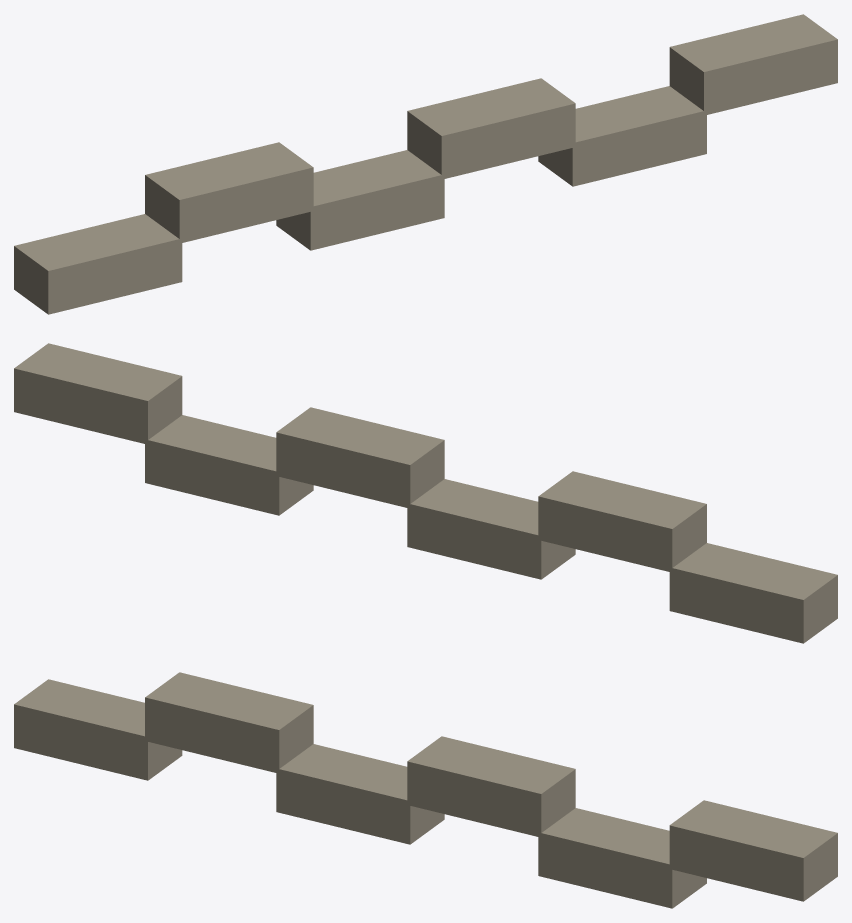
File: sandbag_wall.glb
3 renders of one model, top to bottom at view 1: azimuth 30°, elevation 25°; view 2: azimuth 150°, elevation 25°; view 3: azimuth 330°, elevation 25°, orthographic.
Visible parts, largest first — view 1: bag0_0, bag3_3, bag1_1, bag5_5, bag4_4, bag2_2; view 2: bag0_0, bag1_1, bag3_3, bag5_5, bag4_4, bag2_2; view 3: bag5_5, bag1_1, bag3_3, bag0_0, bag4_4, bag2_2.
Part boxes in pixels (x1,y1,x2,y2): bag0_0: (14, 214, 182, 314); bag3_3: (407, 78, 575, 179); bag1_1: (145, 142, 313, 242); bag5_5: (669, 14, 837, 114); bag4_4: (538, 86, 706, 186); bag2_2: (276, 150, 444, 250); bag0_0: (669, 543, 837, 643); bag1_1: (538, 471, 706, 572); bag3_3: (276, 407, 444, 508); bag5_5: (14, 343, 182, 443); bag4_4: (145, 415, 313, 515); bag2_2: (407, 479, 575, 579); bag5_5: (669, 800, 837, 901); bag1_1: (145, 672, 313, 773); bag3_3: (407, 736, 575, 837); bag0_0: (14, 679, 182, 780); bag4_4: (538, 808, 706, 908); bag2_2: (276, 744, 444, 844).
Size of the model in its own units: 5.3 by 0.53 by 0.4.
